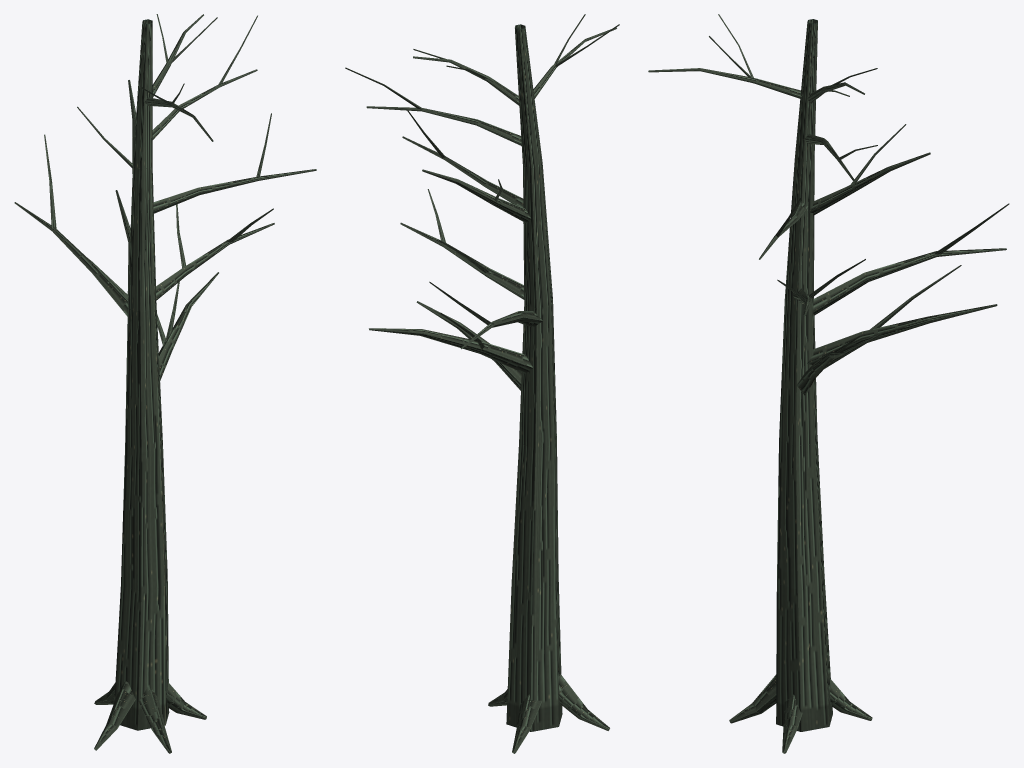
File: SM_Forest_Tree_DeadB_360x510x1100.fbx
3 views of the same model, side by side, from view 1: azimuth 30°, elevation 25°; view 2: azimuth 150°, elevation 25°; view 3: azimuth 270°, elevation 25° (orthographic).
Visible parts, largest first — view 1: SM_Forest_Tree_DeadB_360x510x1100.015; view 2: SM_Forest_Tree_DeadB_360x510x1100.015; view 3: SM_Forest_Tree_DeadB_360x510x1100.015.
Boxes of the visible parts, box(x1,y1,x2,y2) form: SM_Forest_Tree_DeadB_360x510x1100.015: box(14, 14, 316, 753); SM_Forest_Tree_DeadB_360x510x1100.015: box(345, 14, 619, 753); SM_Forest_Tree_DeadB_360x510x1100.015: box(648, 14, 1009, 753).
Size of the model in its own units: 3.57 by 11.13 by 5.12.
